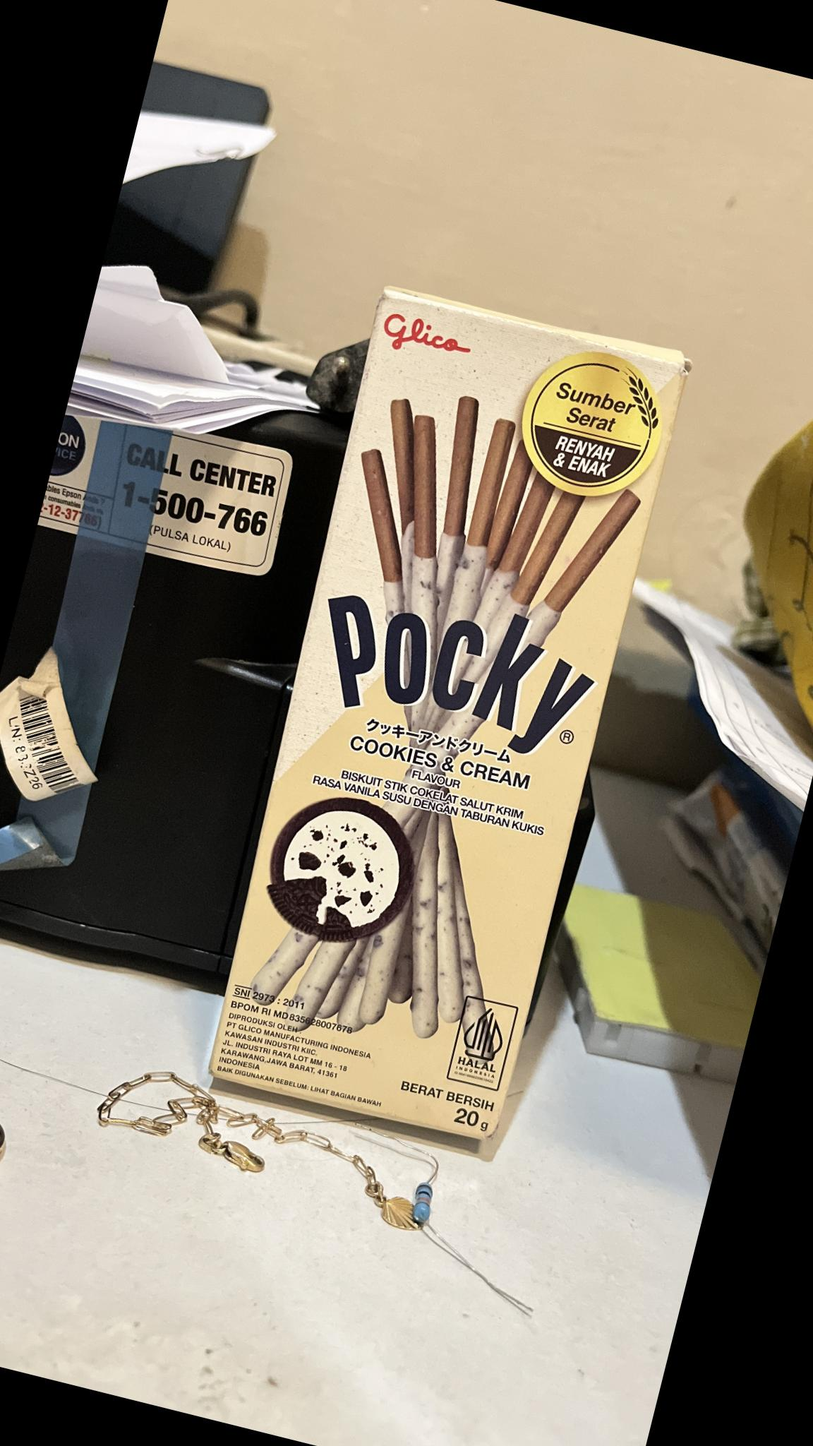Kertas: (204, 287, 691, 1154)
